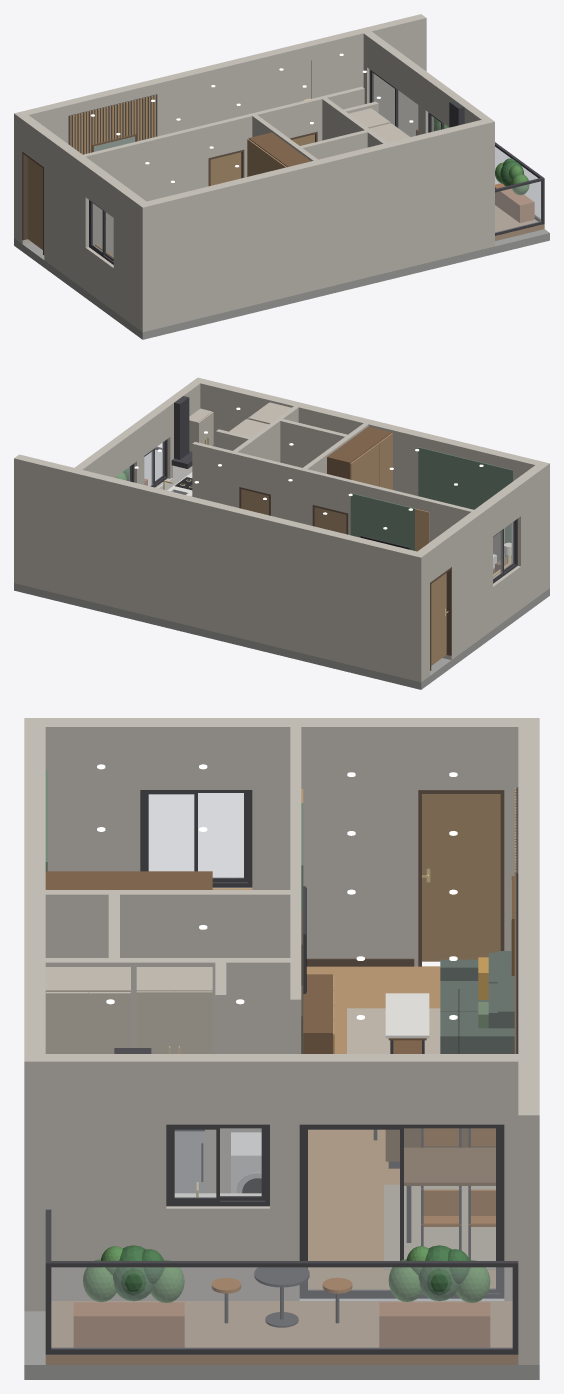
The model's file is unit_3_new.glb.
3 views of the same model, one above another, from view 1: azimuth 30°, elevation 25°; view 2: azimuth 150°, elevation 25°; view 3: azimuth 270°, elevation 25° (orthographic). The views are drawn at different scales.
Parts seen in each view (by area): view 1: Wall_South_pier0, Wall_North_pier0, Part_LivBed_pier0, Wall_West_pier1, Slab, Wall_West_pier2, Wall_East_lintel0, Bal_S_Glass, Slat_Backing, Part_ToiletKitchen_pier0, Wall_West_sill1, Door_Entry_Leaf (+25 smaller); view 2: Wall_North_pier0, Wall_South_pier0, Wall_West_pier1, Slab, Bed_AccentPanel, Wall_West_pier2, Part_LivBed_pier2, TV_Panel_Sage, Part_LivBed_pier1, Part_LivBed_pier0, Part_Shaft_pier0, Wall_East_lintel0 (+27 smaller); view 3: Bal_E_Glass, Wall_West_pier1, Wall_East_pier2, Floor_LivingDining, Floor_Balcony, Part_BedToilet_pier0, Wall_East_lintel0, Wall_West_pier2, Wall_North_pier0, Slider_Balcony_S1_Glass, Wall_South_pier0, Door_Entry_Leaf (+53 smaller).
Boxes of the visible parts, <box> form: Wall_South_pier0: <box>137,118,494,332</box>; Wall_North_pier0: <box>14,14,426,241</box>; Part_LivBed_pier0: <box>83,124,208,255</box>; Wall_West_pier1: <box>44,133,94,290</box>; Slab: <box>14,229,549,339</box>; Wall_West_pier2: <box>113,184,146,327</box>; Wall_East_lintel0: <box>367,34,425,104</box>; Bal_S_Glass: <box>495,181,541,232</box>; Slat_Backing: <box>68,94,157,154</box>; Part_ToiletKitchen_pier0: <box>322,98,387,147</box>; Wall_West_sill1: <box>85,246,113,310</box>; Door_Entry_Leaf: <box>27,157,42,249</box>; Wall_North_pier0: <box>14,454,426,682</box>; Wall_South_pier0: <box>192,377,549,591</box>; Wall_West_pier1: <box>442,503,492,659</box>; Slab: <box>14,583,549,689</box>; Bed_AccentPanel: <box>418,447,513,557</box>; Wall_West_pier2: <box>511,465,544,608</box>; Part_LivBed_pier2: <box>192,442,241,507</box>; TV_Panel_Sage: <box>350,493,414,550</box>; Part_LivBed_pier1: <box>271,461,315,525</box>; Part_LivBed_pier0: <box>348,480,473,542</box>; Part_Shaft_pier0: <box>280,419,347,467</box>; Wall_East_lintel0: <box>78,428,136,477</box>; Bal_E_Glass: <box>51,1267,512,1348</box>; Wall_West_pier1: <box>252,718,418,966</box>; Wall_East_pier2: <box>45,1054,166,1300</box>; Floor_LivingDining: <box>306,966,495,1289</box>; Floor_Balcony: <box>45,1301,518,1364</box>; Part_BedToilet_pier0: <box>45,890,290,957</box>; Wall_East_lintel0: <box>299,1054,504,1124</box>; Wall_West_pier2: <box>45,718,140,871</box>; Wall_North_pier0: <box>518,718,539,1364</box>; Slider_Balcony_S1_Glass: <box>308,1130,399,1289</box>; Wall_South_pier0: <box>24,718,45,1311</box>; Door_Entry_Leaf: <box>422,794,500,961</box>.
Bounding box in the file's own units: 10.16 × 3.15 × 5.56.
